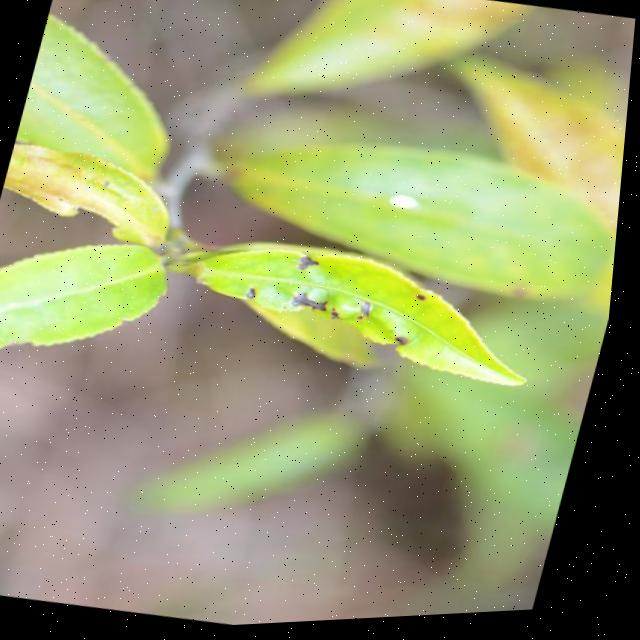Tea red scab: (286, 283, 344, 329), (285, 241, 338, 287), (337, 295, 382, 337), (237, 281, 284, 319), (403, 283, 445, 321), (393, 330, 428, 355)
